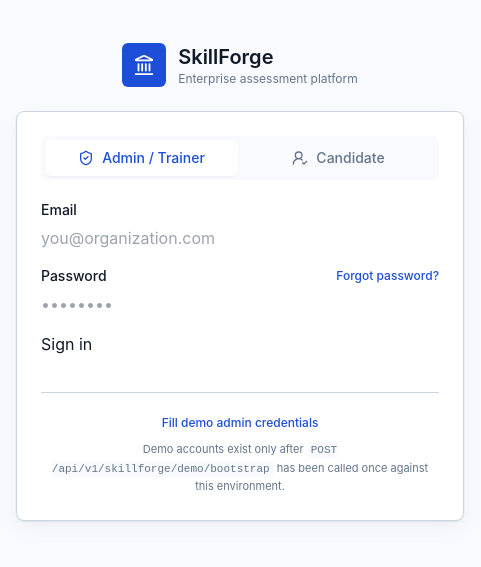
Test: LoginPage › surfaces the backend's real error message instead of a generic one when the API returns a proper error body
Type "admin@apex.example" into the field with placeholder "you@organization.com". click: (165, 238)
box: [41, 226, 289, 250]
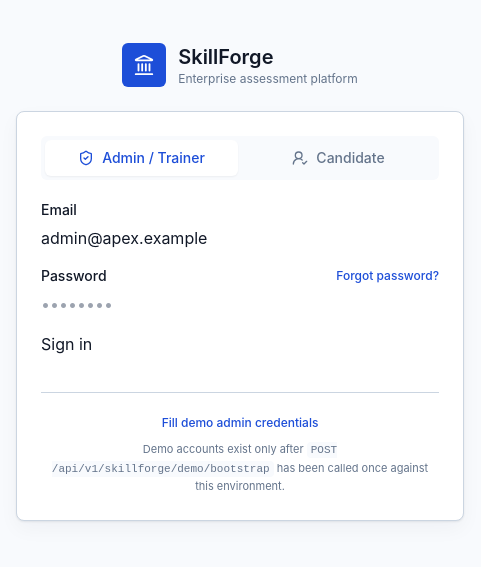
Type "Demo@12345" into the password field with placeholder "••••••••". click: (165, 304)
box: [41, 292, 289, 316]
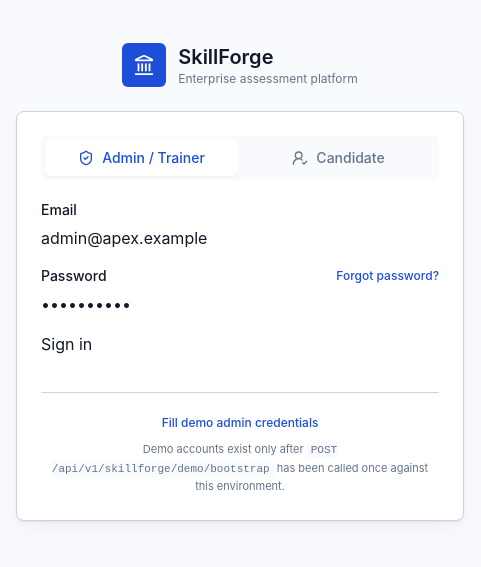
Click the button "Sign in". click: (67, 344)
box: [41, 332, 92, 356]
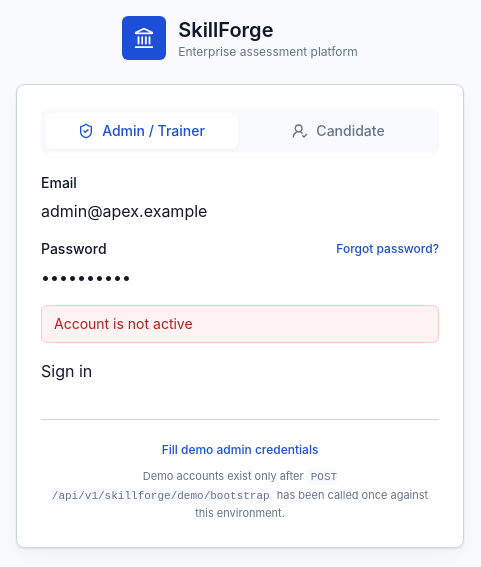
Check: the text "Account is not active" is shown, box [41, 305, 439, 343]
